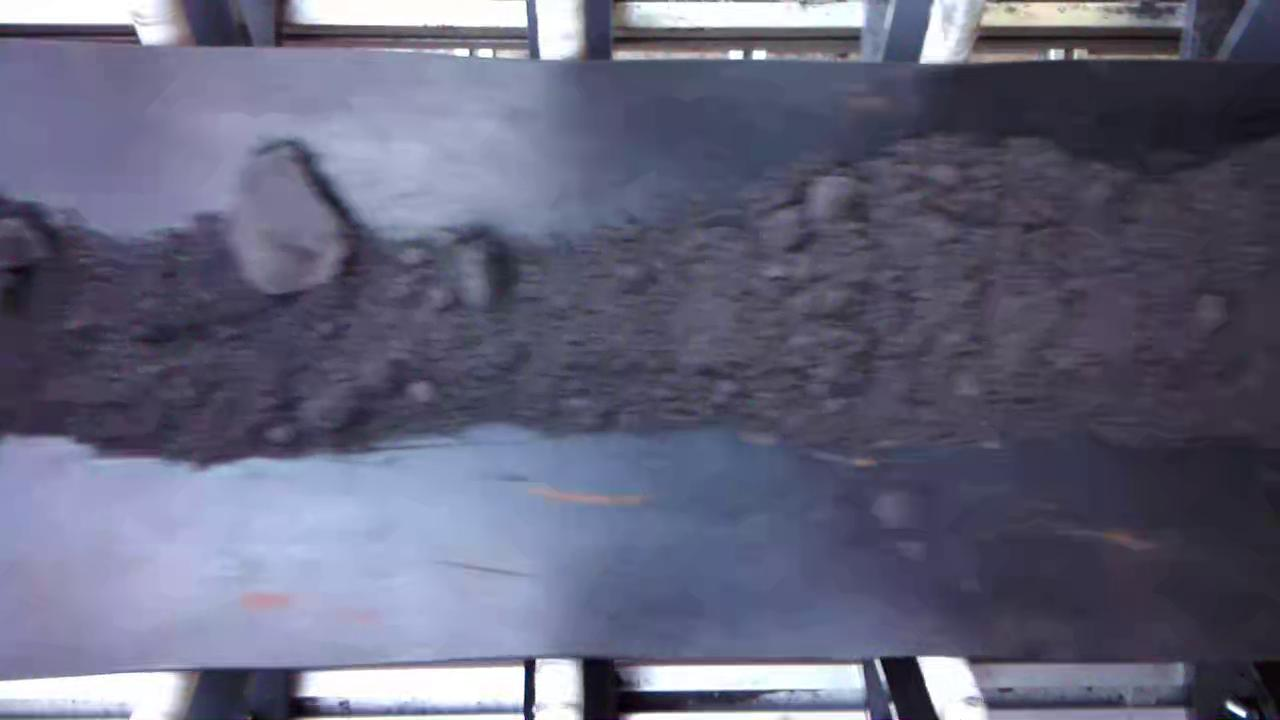conveyor: (6, 70, 1277, 650)
